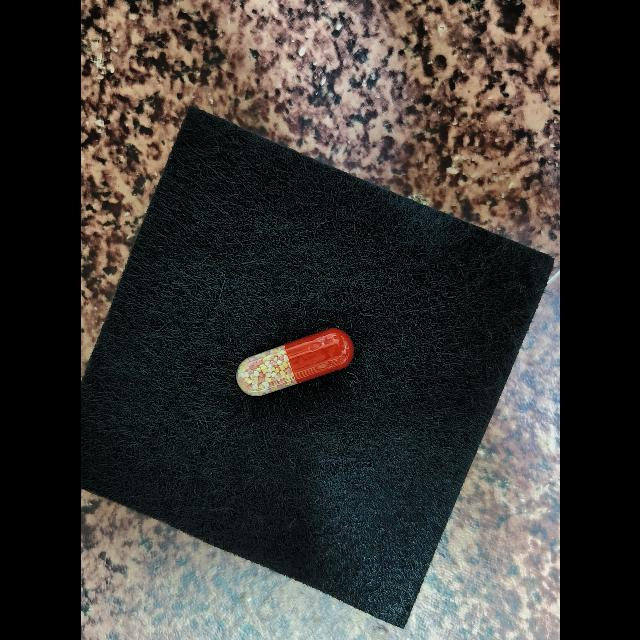Intact Capsule: (236, 329, 354, 397)
